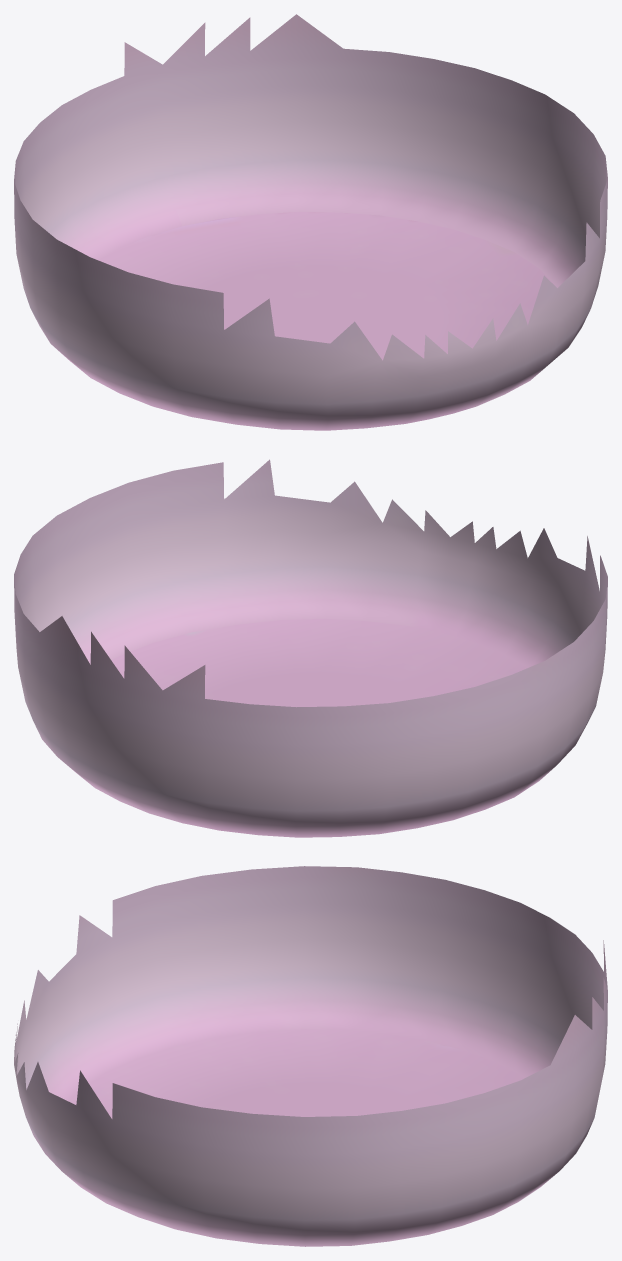
The model's file is hypnoshroom_base.obj.
3 views of the same model, one above another, from view 1: azimuth 30°, elevation 25°; view 2: azimuth 150°, elevation 25°; view 3: azimuth 270°, elevation 25° (orthographic).
Visible parts, largest first — view 1: hypnoshroom_base; view 2: hypnoshroom_base; view 3: hypnoshroom_base.
Part boxes in pixels (x1=…): hypnoshroom_base: x1=14, y1=14, x2=607, y2=430; hypnoshroom_base: x1=14, y1=459, x2=607, y2=837; hypnoshroom_base: x1=14, y1=866, x2=607, y2=1246.
Bounding box in the file's own units: 0.5405 × 0.181 × 0.5408.
